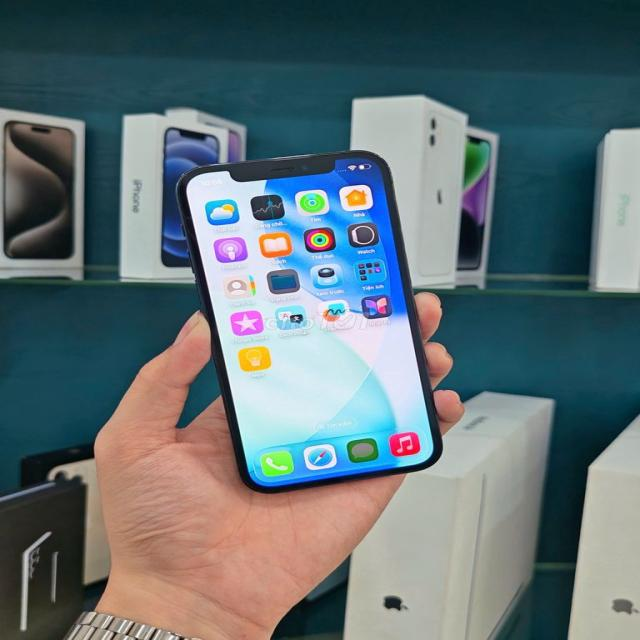gen_12_13: (173, 148, 443, 494)
